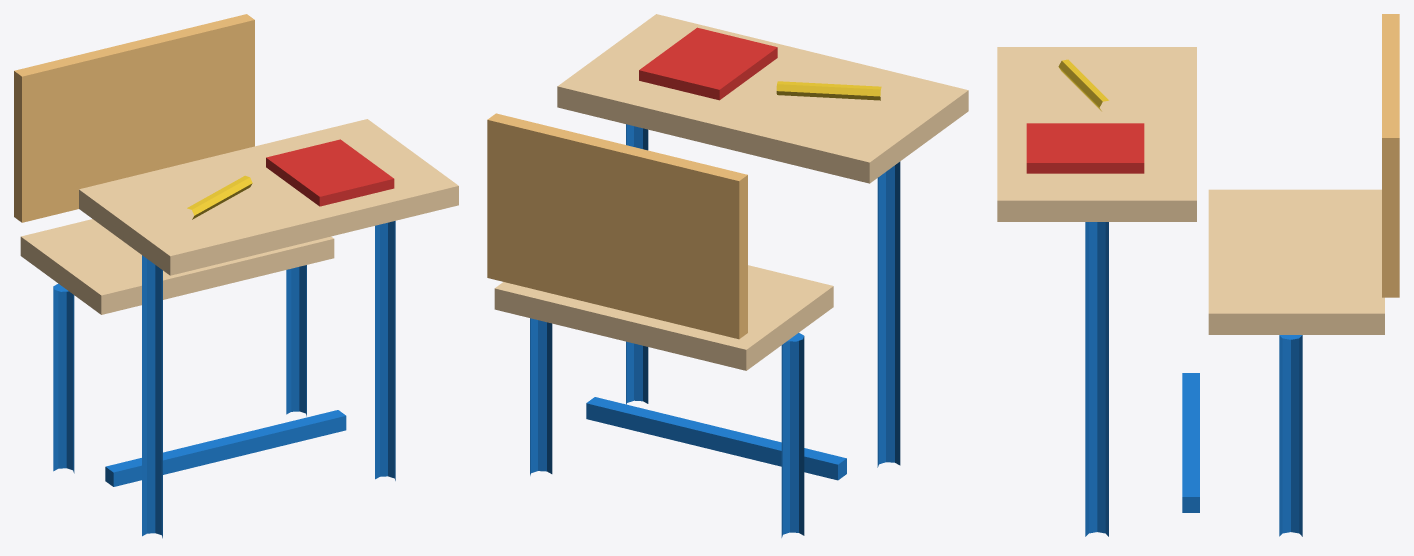
Rendered from skolbank.glb.
3 views of the same model, side by side, from view 1: azimuth 30°, elevation 25°; view 2: azimuth 150°, elevation 25°; view 3: azimuth 270°, elevation 25° (orthographic). The views are drawn at different scales.
Visible parts, largest first — view 1: skolbank; view 2: skolbank; view 3: skolbank.
Part boxes in pixels (left/top/right/bottom): skolbank: left=14, top=14, right=458, bottom=538; skolbank: left=487, top=14, right=968, bottom=537; skolbank: left=997, top=14, right=1399, bottom=536.
Size of the model in its own units: 0.62 by 0.75 by 0.685.
